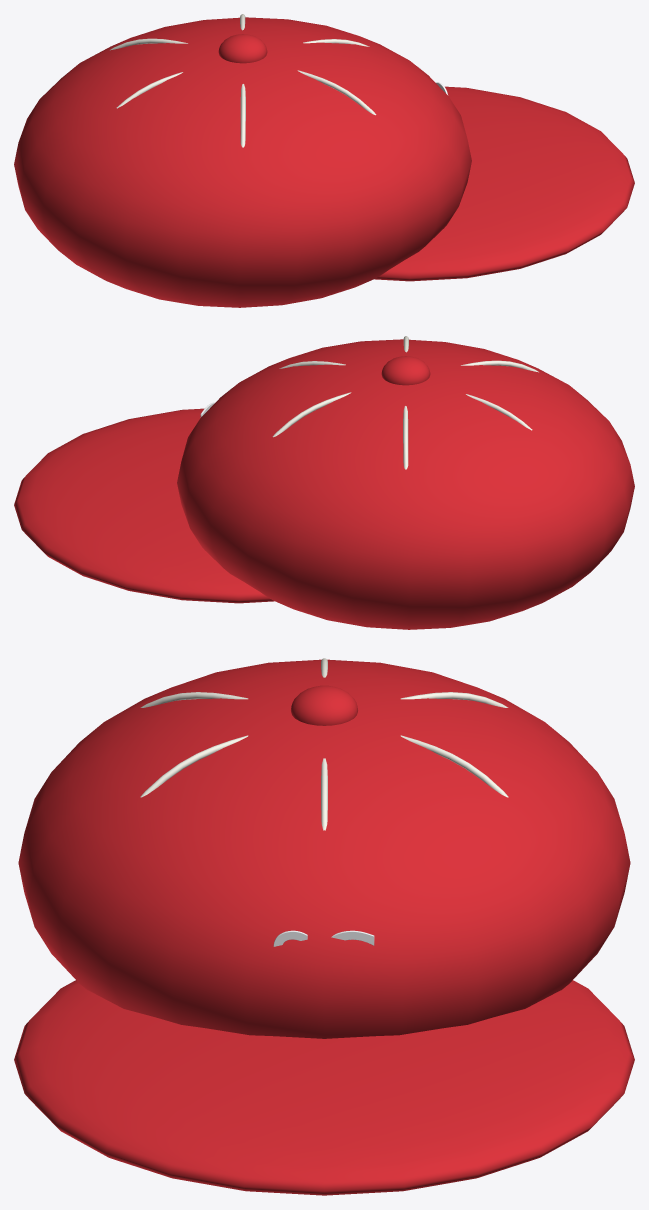
The model's file is red_cap.glb.
3 renders of one model, top to bottom at view 1: azimuth 30°, elevation 25°; view 2: azimuth 150°, elevation 25°; view 3: azimuth 270°, elevation 25°, orthographic. The views are drawn at different scales.
Visible parts, largest first — view 1: cap • crown, cap • curved brim, cap • top button; view 2: cap • crown, cap • curved brim, cap • top button; view 3: cap • crown, cap • curved brim, cap • top button, cap • stitched panel.001, cap • stitched panel.005.
Boxes of the visible parts, <box> form: cap • crown: <box>14,17,471,307</box>; cap • curved brim: <box>374,86,634,281</box>; cap • top button: <box>218,34,267,63</box>; cap • crown: <box>177,339,634,629</box>; cap • curved brim: <box>14,408,274,603</box>; cap • top button: <box>381,356,430,385</box>; cap • crown: <box>18,659,630,1038</box>; cap • curved brim: <box>14,980,634,1195</box>; cap • top button: <box>291,685,357,725</box>; cap • stitched panel.001: <box>400,735,508,797</box>; cap • stitched panel.005: <box>140,735,248,797</box>.
Bounding box in the file's own units: 1.01 × 0.405 × 0.7.
